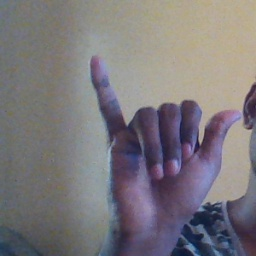J: (85, 52, 244, 228)
